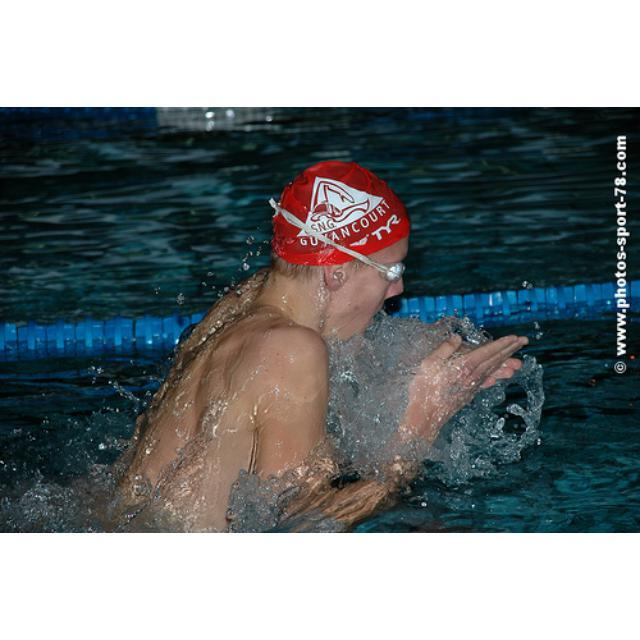human: (106, 159, 527, 528)
